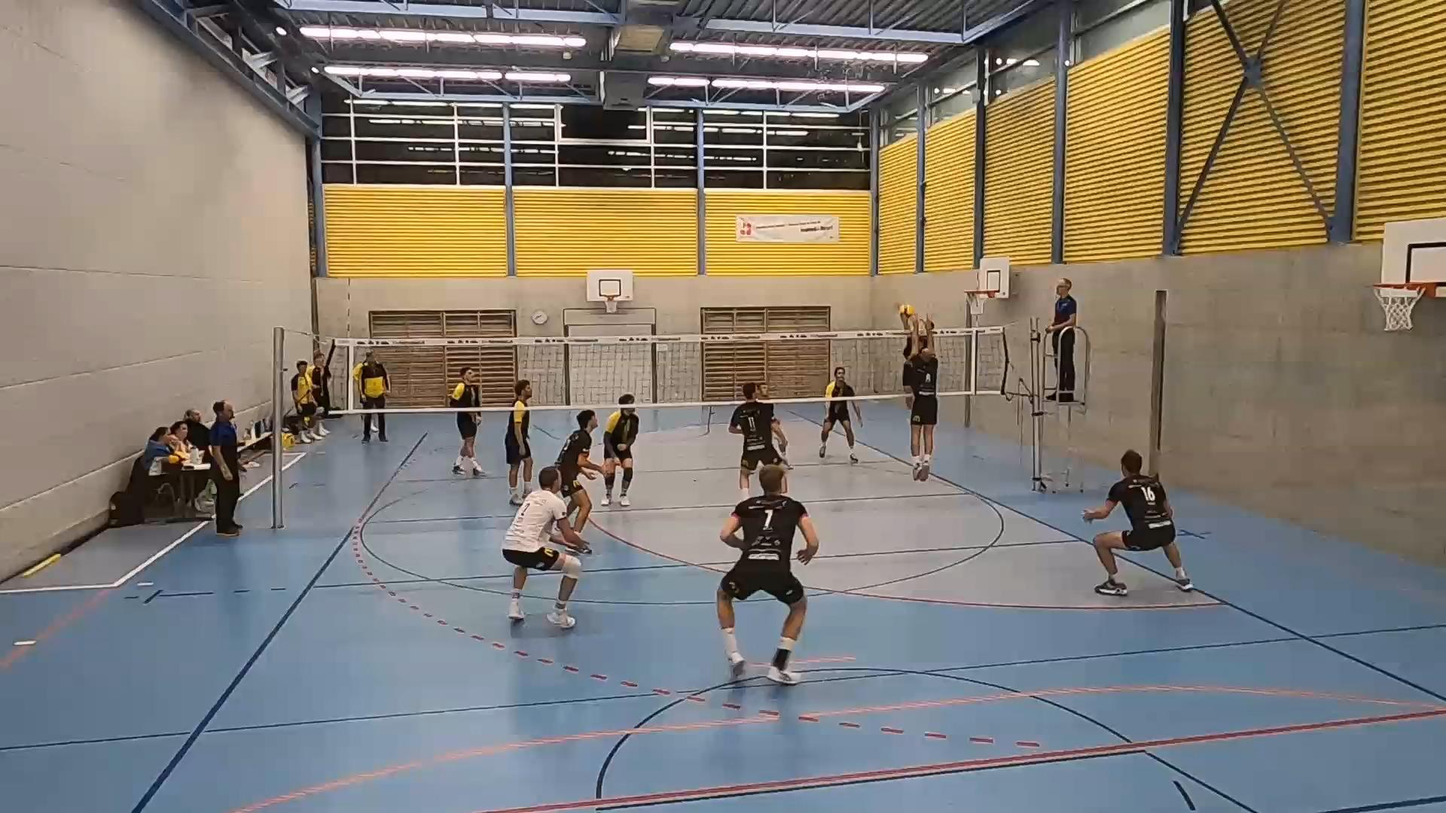attacco: (887, 309, 938, 401)
muro: (896, 315, 939, 484)
